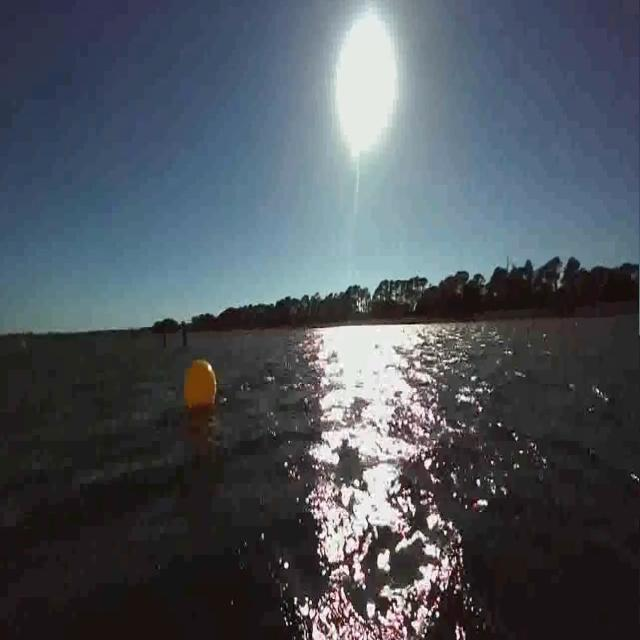yellow-buoy: (186, 359, 218, 411)
